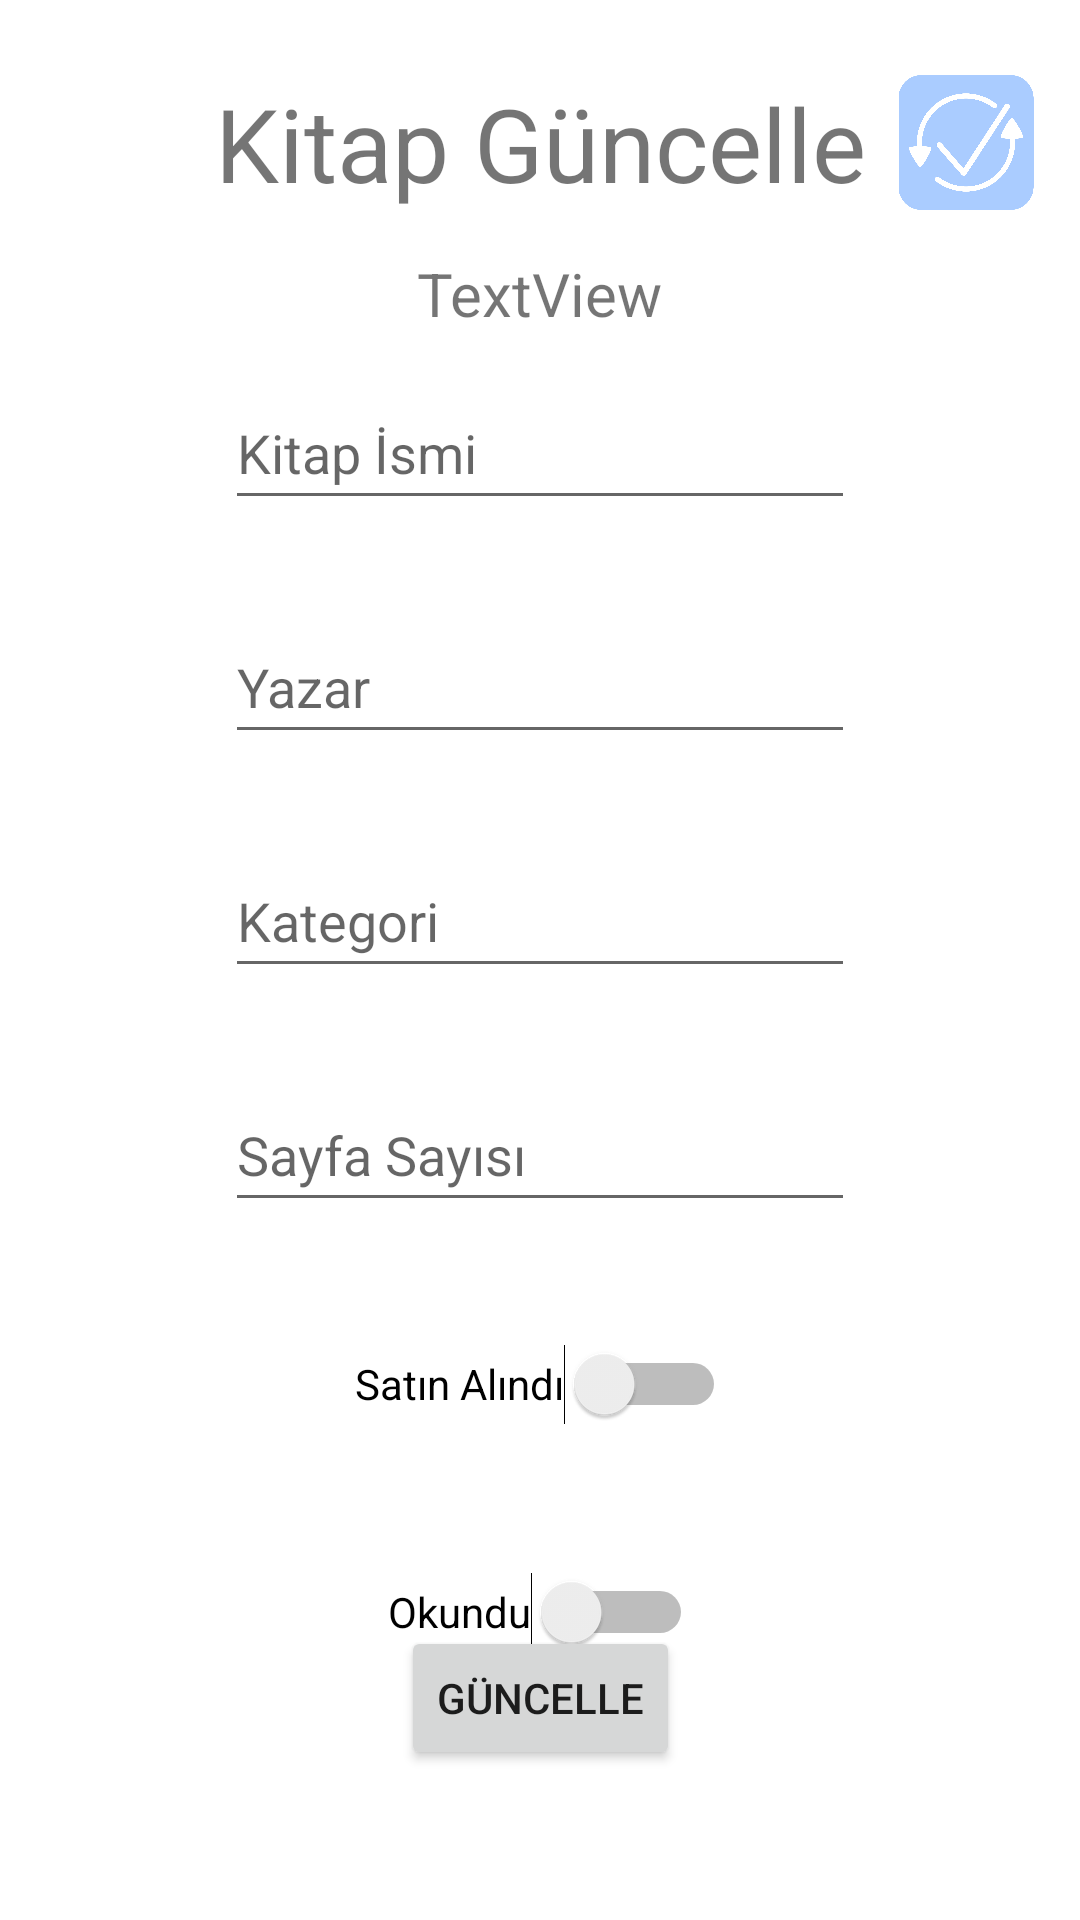

Screen size 1080*1920. Icon name, then its box in pixels as {"x1": x1, "y1": y1, "x2": x2, "y2": y2}:
update: {"x1": 899, "y1": 75, "x2": 1034, "y2": 210}
